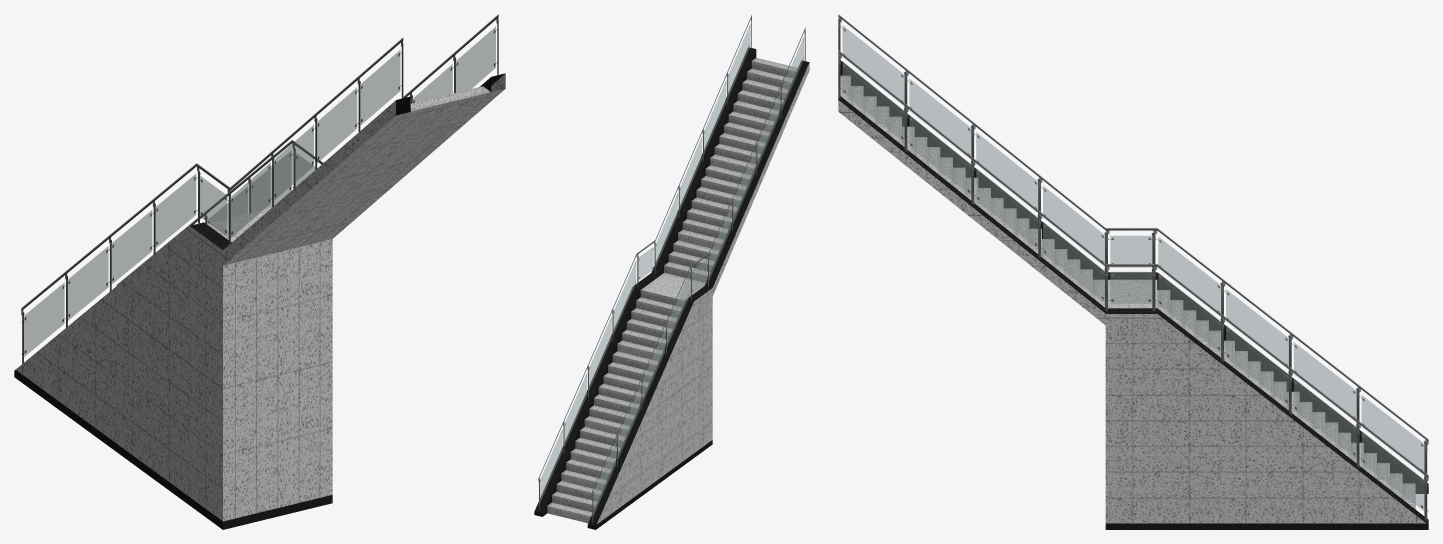
3 renders of one model, left to right at view 1: azimuth 30°, elevation 25°; view 2: azimuth 150°, elevation 25°; view 3: azimuth 270°, elevation 25°, orthographic. The views are drawn at different scales.
Visible parts, largest first — view 1: 10Mlouti_0.5X; view 2: 10Mlouti_0.5X; view 3: 10Mlouti_0.5X.
Part boxes in pixels (bbox=[...]): 10Mlouti_0.5X: bbox=[14, 14, 505, 529]; 10Mlouti_0.5X: bbox=[534, 15, 809, 529]; 10Mlouti_0.5X: bbox=[838, 14, 1428, 529].
Size of the model in its own units: 2.07 by 11.14 by 12.49.
Materials: 4 (4 with a texture image).
